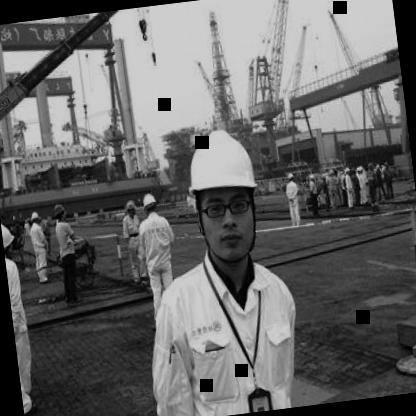helmet: (178, 118, 274, 268), (138, 188, 162, 220), (0, 217, 16, 264), (51, 200, 68, 224)
